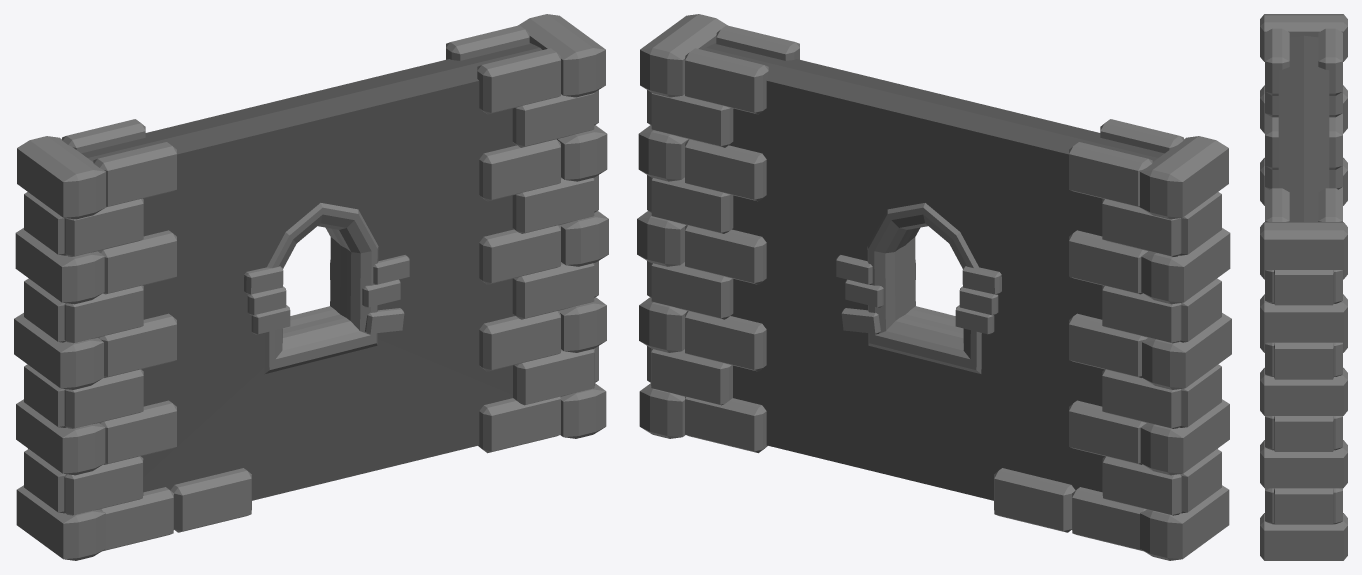
Rendered from DungeonWallWindow.fbx.
3 views of the same model, side by side, from view 1: azimuth 30°, elevation 25°; view 2: azimuth 150°, elevation 25°; view 3: azimuth 270°, elevation 25° (orthographic). The views are drawn at different scales.
Parts seen in each view (by area): view 1: DungeonWallWindow; view 2: DungeonWallWindow; view 3: DungeonWallWindow.
Part boxes in pixels (x1,y1,x2,y2): DungeonWallWindow: (14,14,608,560); DungeonWallWindow: (637,14,1231,560); DungeonWallWindow: (1260,14,1347,560).
Size of the model in its own units: 555 by 375 by 90.43.
Materials: 1 (1 with a texture image).
